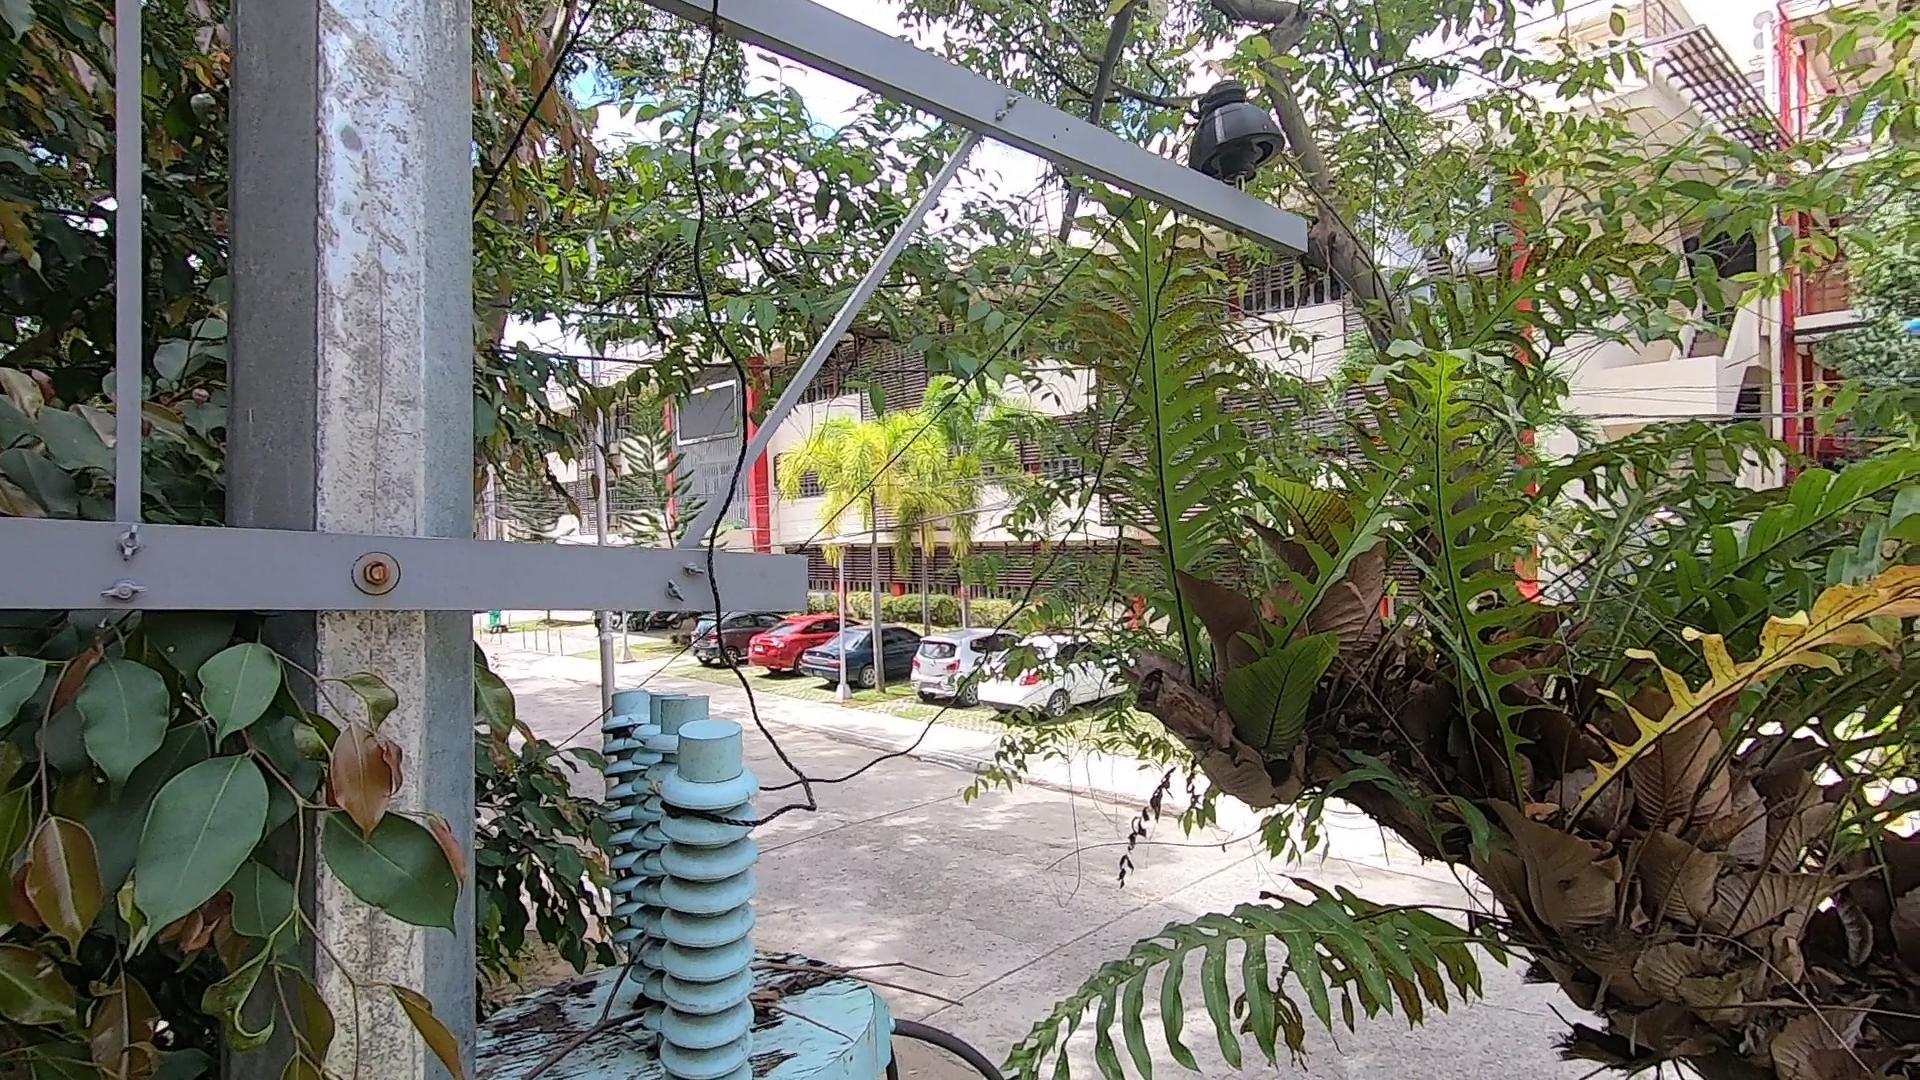leaf: (11, 675, 477, 1080), (485, 989, 588, 1043), (752, 967, 831, 1019)
tree branch: (465, 927, 989, 1080)
